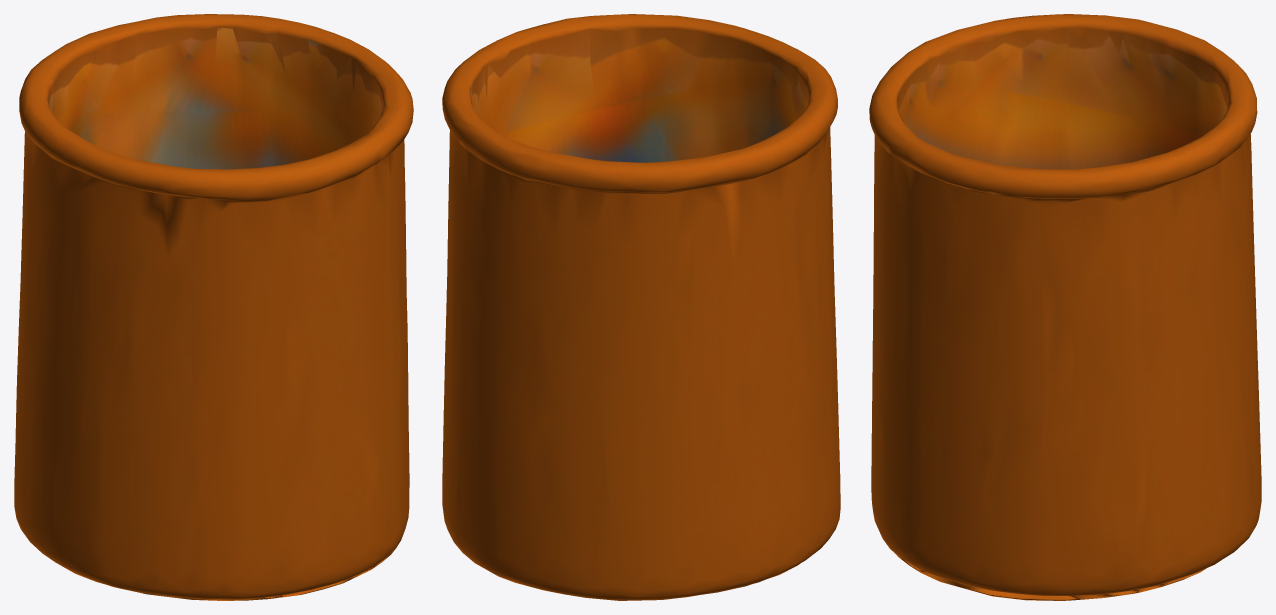
Rendered from wooden+bucket+3d+model.fbx.
3 renders of one model, left to right at view 1: azimuth 30°, elevation 25°; view 2: azimuth 150°, elevation 25°; view 3: azimuth 270°, elevation 25°, orthographic.
Parts seen in each view (by area): view 1: tripo_node_3ed28074; view 2: tripo_node_3ed28074; view 3: tripo_node_3ed28074.
Boxes of the visible parts, x1,y1,x2,y2 form: tripo_node_3ed28074: (14,14,413,600); tripo_node_3ed28074: (442,14,840,600); tripo_node_3ed28074: (869,14,1261,600).
Bounding box in the file's own units: 0.8231 × 0.9999 × 0.8229.
1 material, 1 textured.
